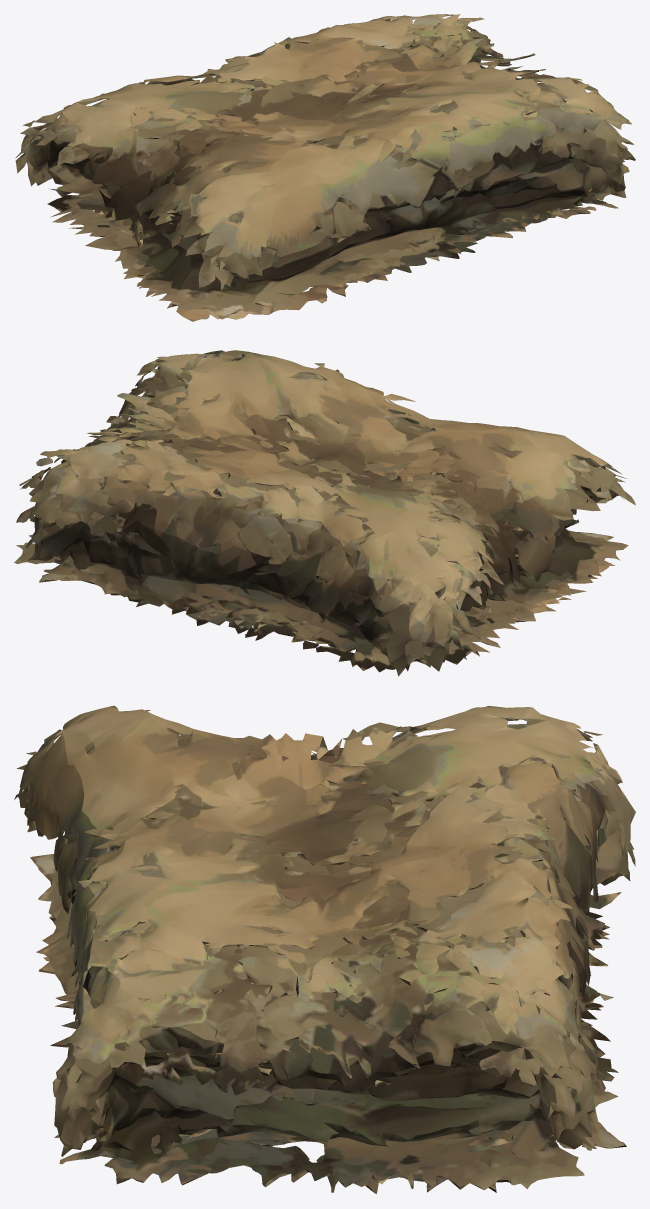
Rendered from item_pelt.glb.
The picture shows the model from 3 angles, top to bottom: view 1: azimuth 30°, elevation 25°; view 2: azimuth 150°, elevation 25°; view 3: azimuth 270°, elevation 25°; orthographic projection. The views are drawn at different scales.
Parts seen in each view (by area): view 1: item_pelt; view 2: item_pelt; view 3: item_pelt.
Boxes of the visible parts, x1=… form: item_pelt: x1=15, y1=14, x2=635, y2=321; item_pelt: x1=14, y1=350, x2=635, y2=676; item_pelt: x1=14, y1=705, x2=635, y2=1193.
Size of the model in its own units: 0.4 by 0.1124 by 0.2897.
Materials: 1 (1 with a texture image).
